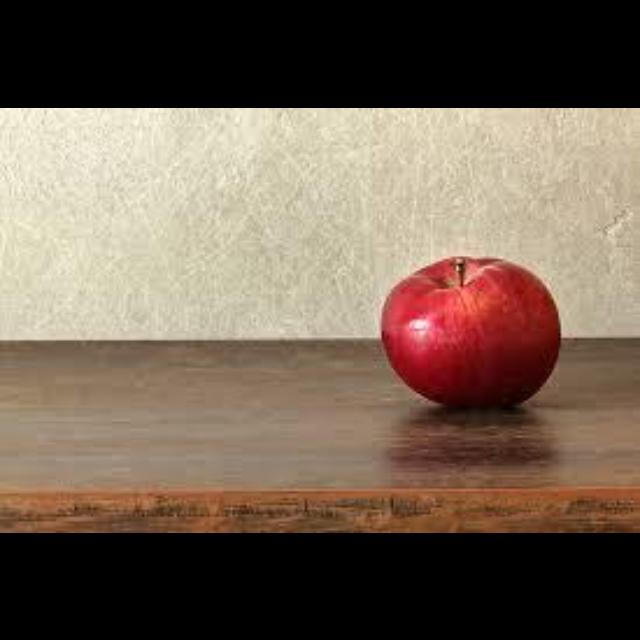apple: (382, 258, 559, 405)
